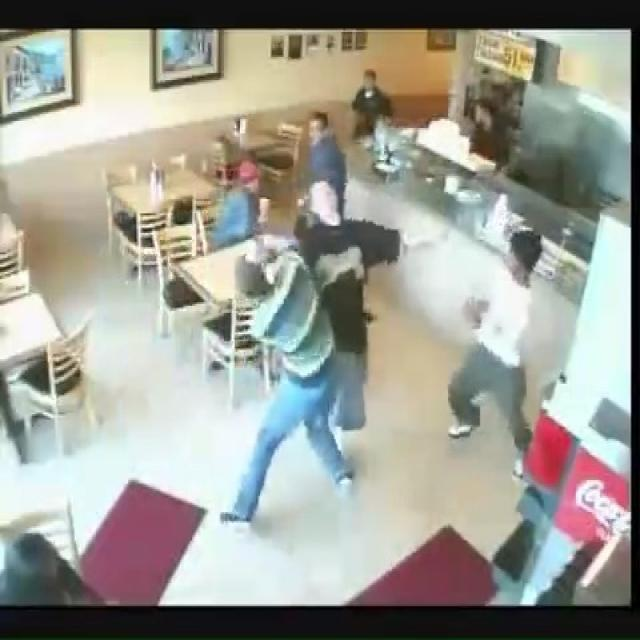fight: (216, 182, 410, 537)
